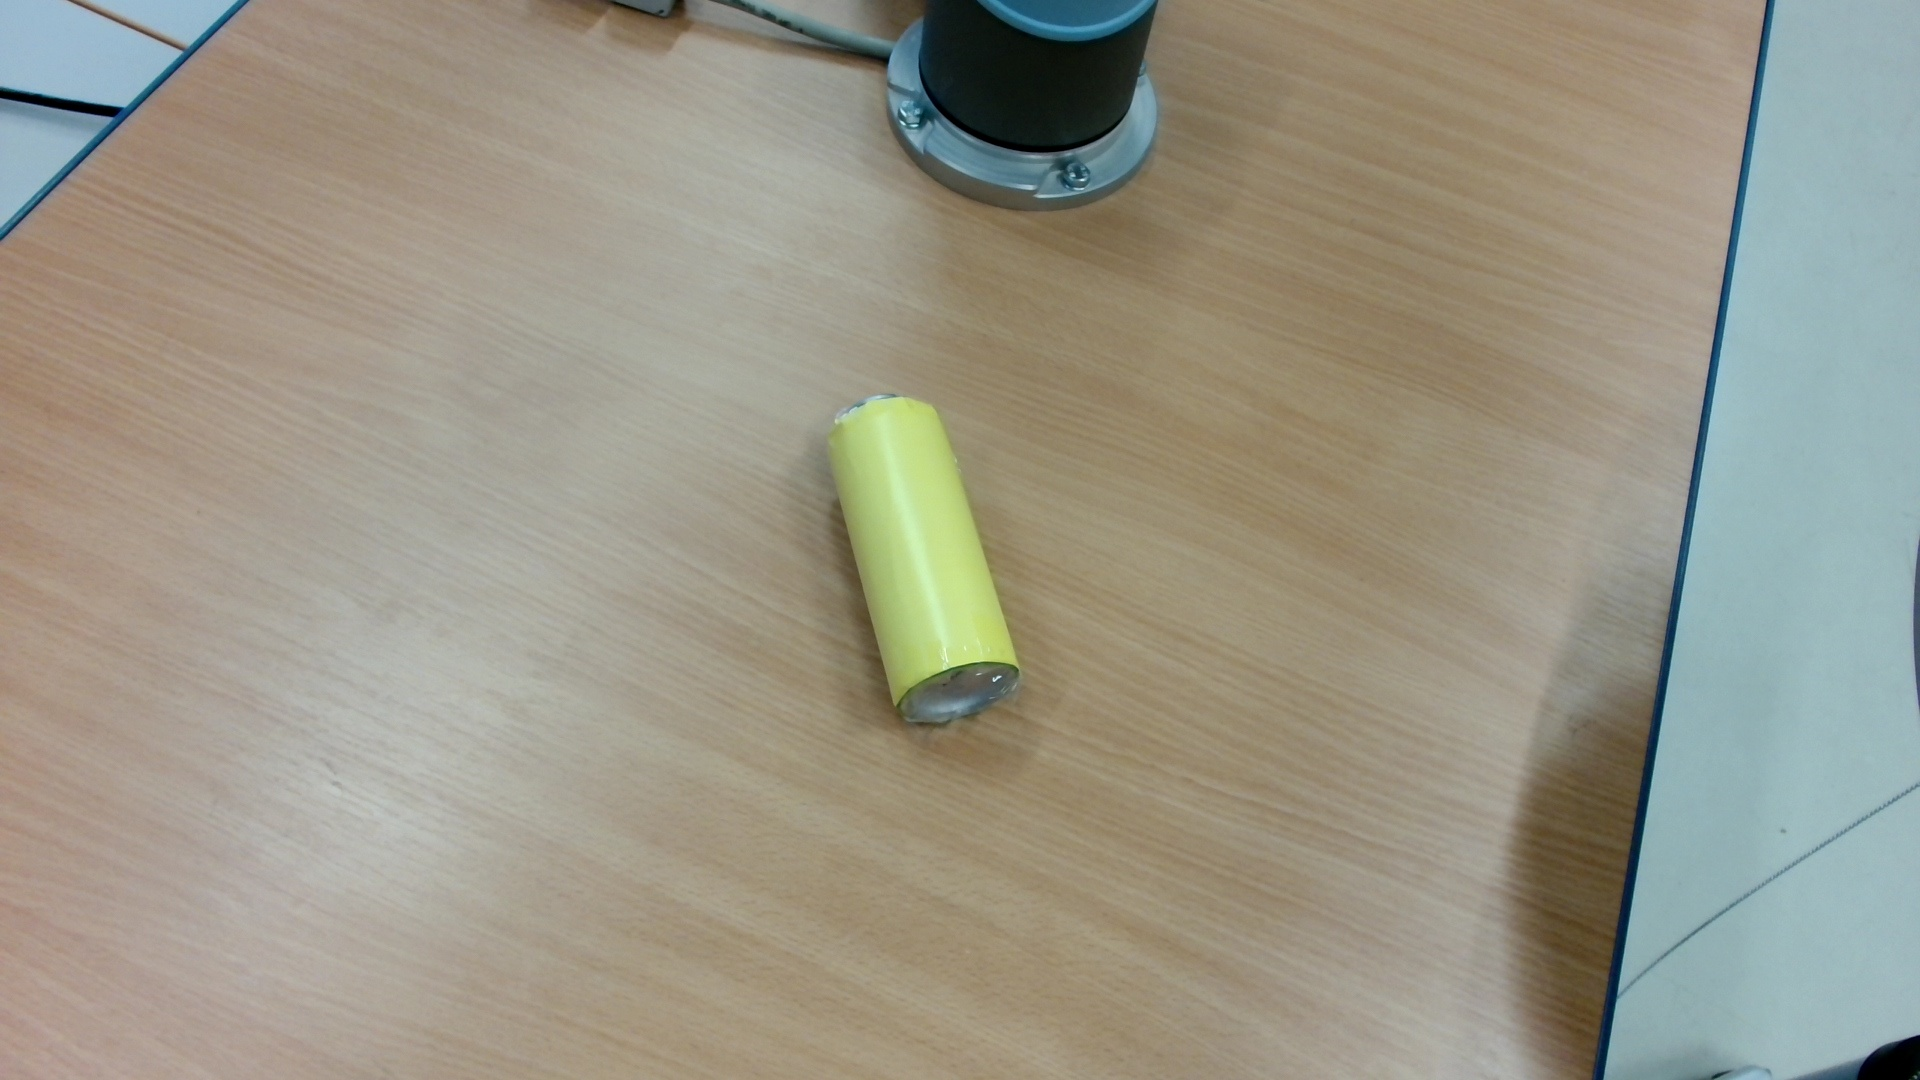Cylinder: (814, 378, 1036, 742)
